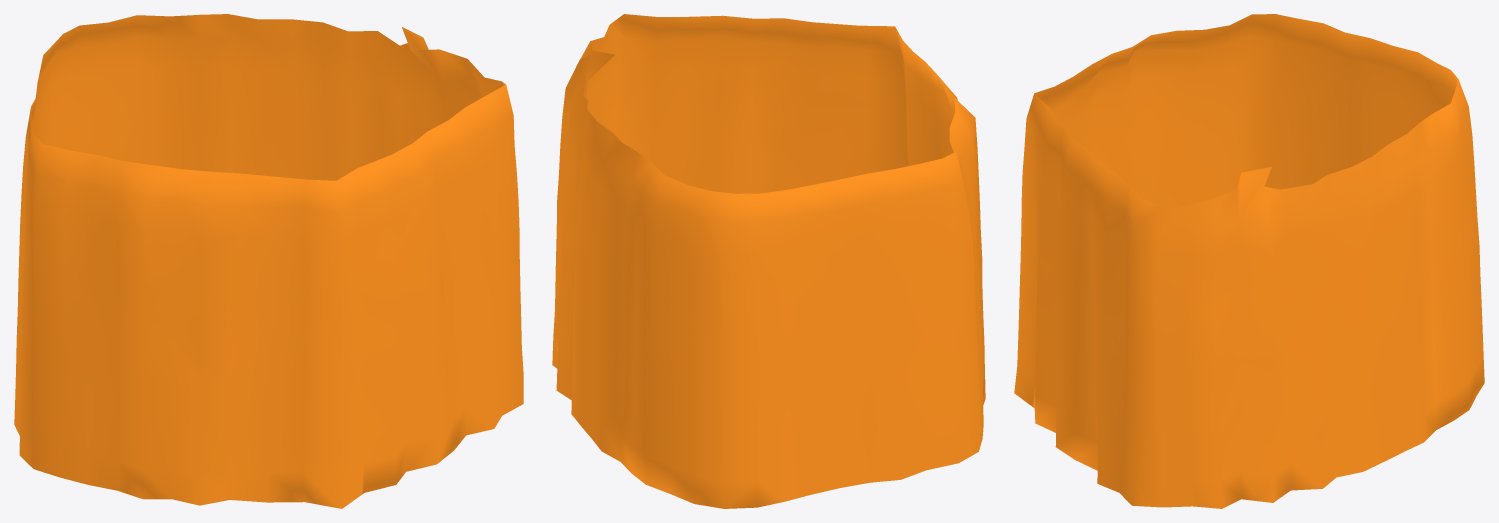
Rendered from lumbermill_hover.glb.
The picture shows the model from 3 angles, left to right: view 1: azimuth 30°, elevation 25°; view 2: azimuth 150°, elevation 25°; view 3: azimuth 270°, elevation 25°; orthographic projection. The views are drawn at different scales.
Parts seen in each view (by area): view 1: lumbermil_hover; view 2: lumbermil_hover; view 3: lumbermil_hover.
Boxes of the visible parts, <box> form: lumbermil_hover: <box>14,14,523,508</box>; lumbermil_hover: <box>552,14,985,508</box>; lumbermil_hover: <box>1014,14,1484,508</box>.
Bounding box in the file's own units: 1.85 × 1.34 × 1.8.
1 material, 1 textured.
